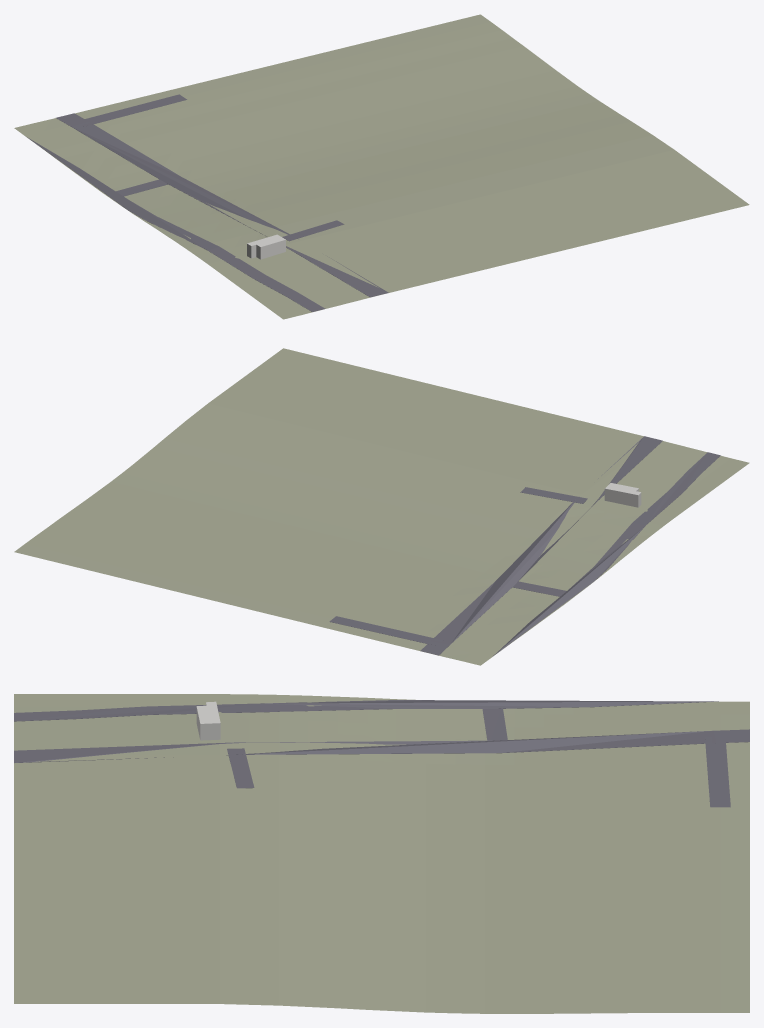
Rendered from chunk_11_9.glb.
The picture shows the model from 3 angles, top to bottom: view 1: azimuth 30°, elevation 25°; view 2: azimuth 150°, elevation 25°; view 3: azimuth 270°, elevation 25°; orthographic projection. The views are drawn at different scales.
Parts seen in each view (by area): view 1: geometry_1, geometry_5, geometry_2, geometry_3, geometry_0; view 2: geometry_1, geometry_5, geometry_2, geometry_3, geometry_0; view 3: geometry_1, geometry_5, geometry_2, geometry_3, geometry_0, geometry_6, geometry_4.
Part boxes in pixels (x1,y1,x2,y2): geometry_1: (14,14,749,319); geometry_5: (56,113,388,297); geometry_2: (27,137,325,311); geometry_3: (76,94,186,126); geometry_0: (247,234,285,259); geometry_1: (14,348,749,665); geometry_5: (420,436,662,655); geometry_2: (492,452,720,656); geometry_3: (329,616,443,645); geometry_0: (604,483,641,507); geometry_1: (14,694,749,1013); geometry_5: (14,729,749,762); geometry_2: (14,700,718,721); geometry_3: (705,737,730,807); geometry_0: (196,701,220,740); geometry_6: (227,748,254,788); geometry_4: (482,708,507,740).
Bounding box in the file's own units: 250 × 9.8 × 250.
